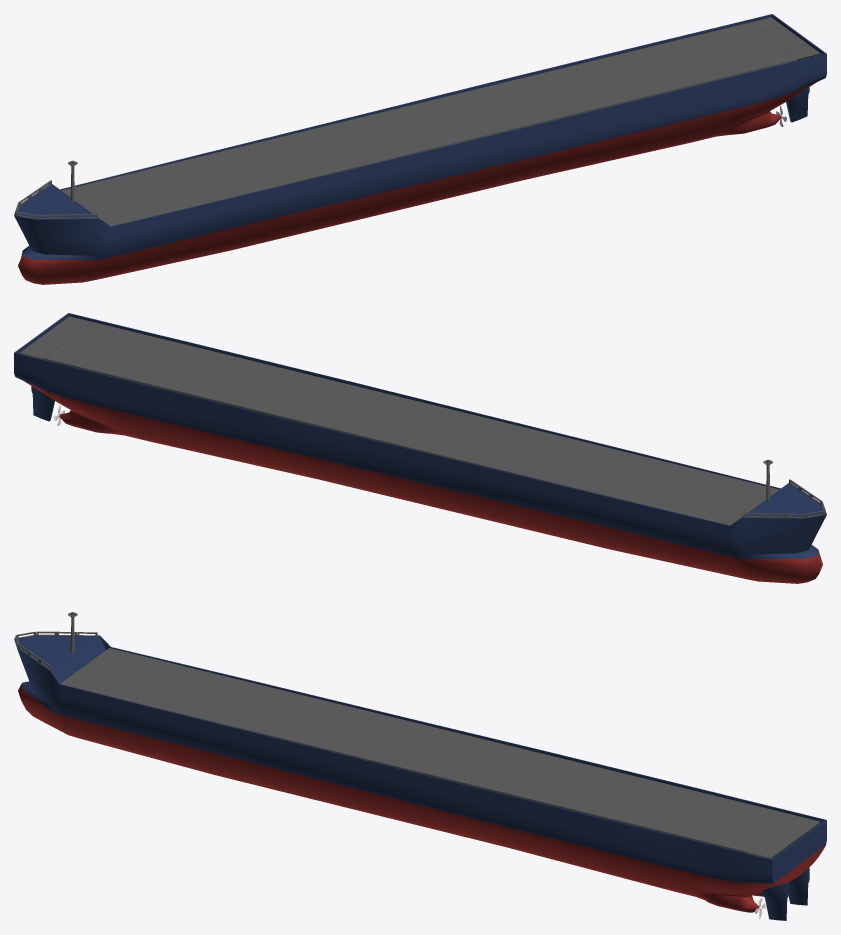
File: ship.obj
3 renders of one model, top to bottom at view 1: azimuth 30°, elevation 25°; view 2: azimuth 150°, elevation 25°; view 3: azimuth 330°, elevation 25°, orthographic.
Visible parts, largest first — view 1: cube5139, polymsh599, polymsh600, Object001; view 2: cube5139, polymsh599, polymsh600, cube5178; view 3: cube5139, polymsh599, Object001, cube5178.
Boxes of the visible parts, <box> form: cube5139: <box>14,14,826,284</box>; polymsh599: <box>61,23,797,226</box>; polymsh600: <box>15,180,97,219</box>; Object001: <box>786,87,809,122</box>; cube5139: <box>14,313,826,583</box>; polymsh599: <box>43,322,779,525</box>; polymsh600: <box>743,479,825,518</box>; cube5178: <box>31,386,54,421</box>; cube5139: <box>14,635,826,912</box>; polymsh599: <box>60,648,796,853</box>; Object001: <box>761,882,788,920</box>; cube5178: <box>788,867,809,905</box>.
Size of the model in its own units: 68.44 by 10.63 by 8.33.
